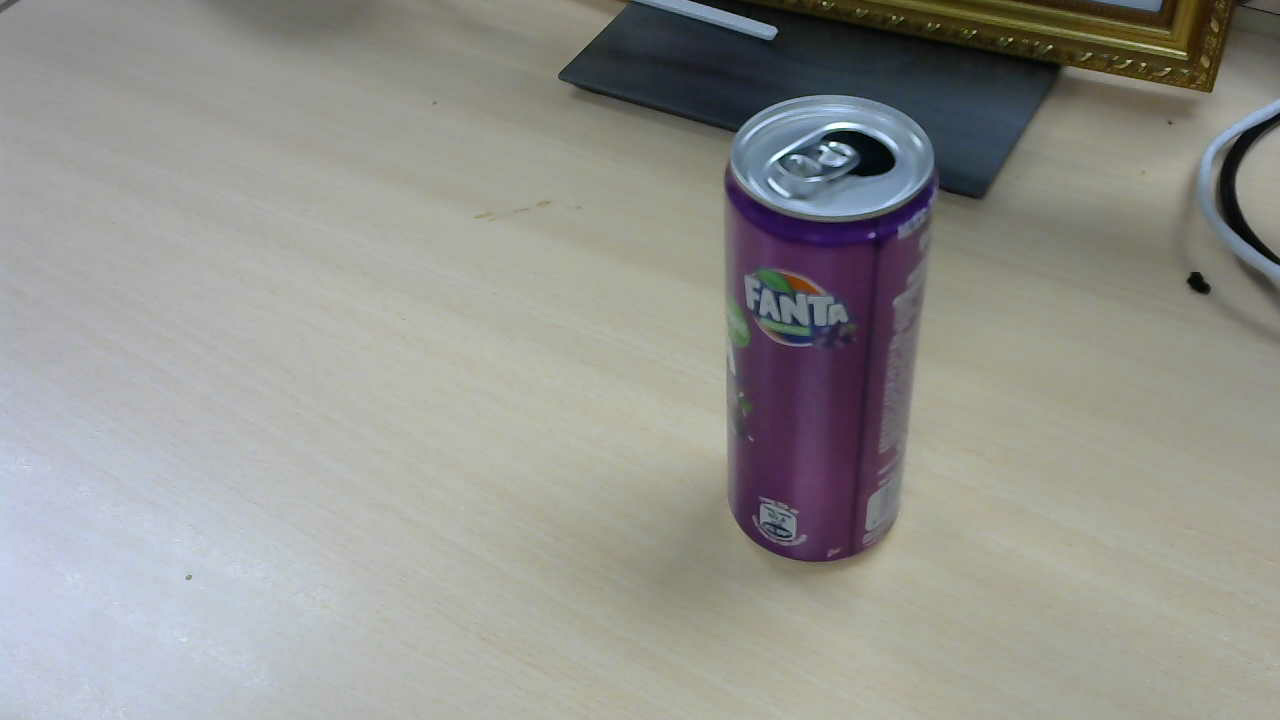Fanta: (722, 99, 945, 569)
